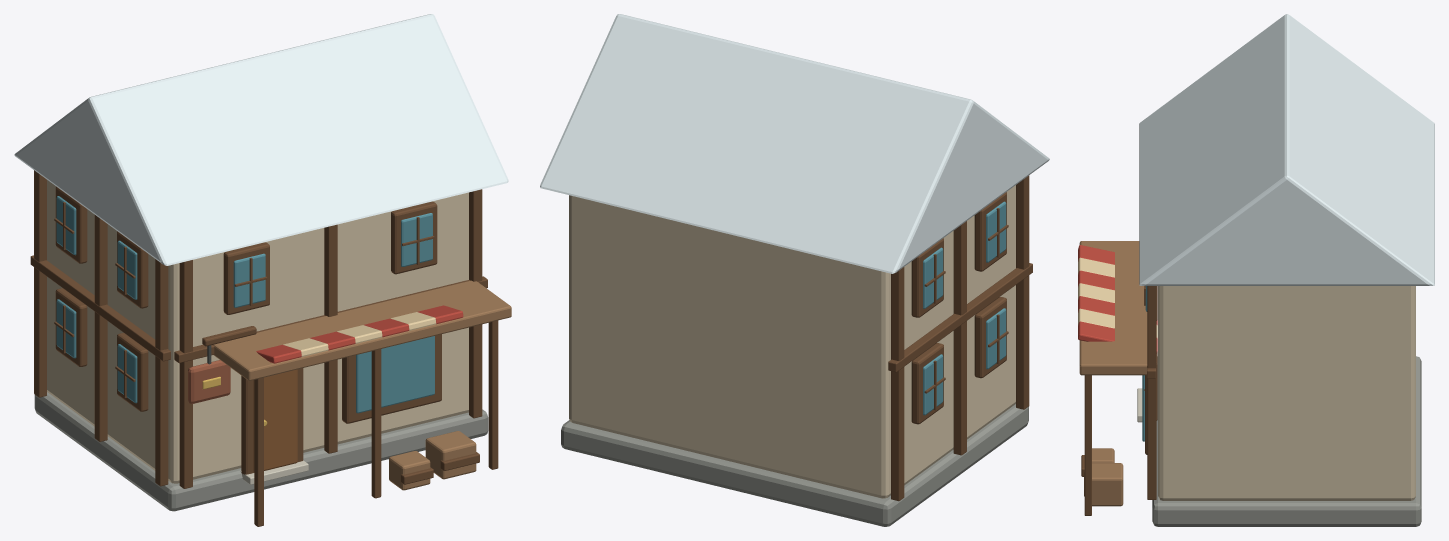
Rendered from snowy-shop-1.glb.
The picture shows the model from 3 angles, left to right: view 1: azimuth 30°, elevation 25°; view 2: azimuth 150°, elevation 25°; view 3: azimuth 270°, elevation 25°; orthographic projection. The views are drawn at different scales.
Visible parts, largest first — view 1: Snow, Ivory plaster, Dark beams, Aged oak, Blue glass, Foundation stone, Door oak, Market red cloth, Market cream cloth, Painted sign, Cut limestone; view 2: Ivory plaster, Snow, Dark beams, Foundation stone, Blue glass; view 3: Snow, Ivory plaster, Foundation stone, Aged oak, Dark beams, Market red cloth, Market cream cloth.
Part boxes in pixels (x1,y1,x2,y2): Snow: (14, 14, 508, 265); Ivory plaster: (47, 180, 468, 483); Dark beams: (30, 170, 498, 526); Aged oak: (213, 280, 511, 490); Blue glass: (56, 196, 434, 413); Foundation stone: (34, 392, 488, 511); Door oak: (253, 369, 297, 471); Market red cloth: (256, 305, 463, 363); Market cream cloth: (283, 312, 436, 356); Painted sign: (188, 360, 230, 403); Cut limestone: (240, 460, 308, 484); Ivory plaster: (569, 185, 1015, 498); Snow: (540, 14, 1049, 273); Dark beams: (888, 175, 1032, 501); Foundation stone: (561, 404, 1028, 526); Blue glass: (923, 201, 1006, 415); Snow: (1139, 14, 1434, 285); Ivory plaster: (1158, 286, 1415, 500); Foundation stone: (1152, 356, 1421, 526); Aged oak: (1079, 241, 1147, 506); Dark beams: (1081, 286, 1157, 515); Market red cloth: (1078, 245, 1157, 353); Market cream cloth: (1078, 257, 1157, 338).
Size of the model in its own units: 4.14 by 4.22 by 3.81.
